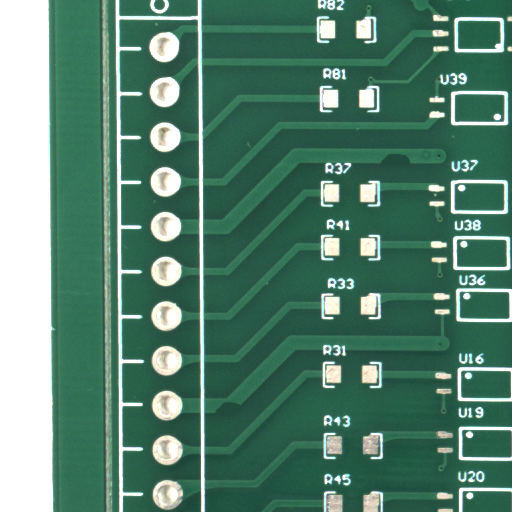Mouse_bite: (227, 408, 263, 426), (396, 159, 432, 176)
